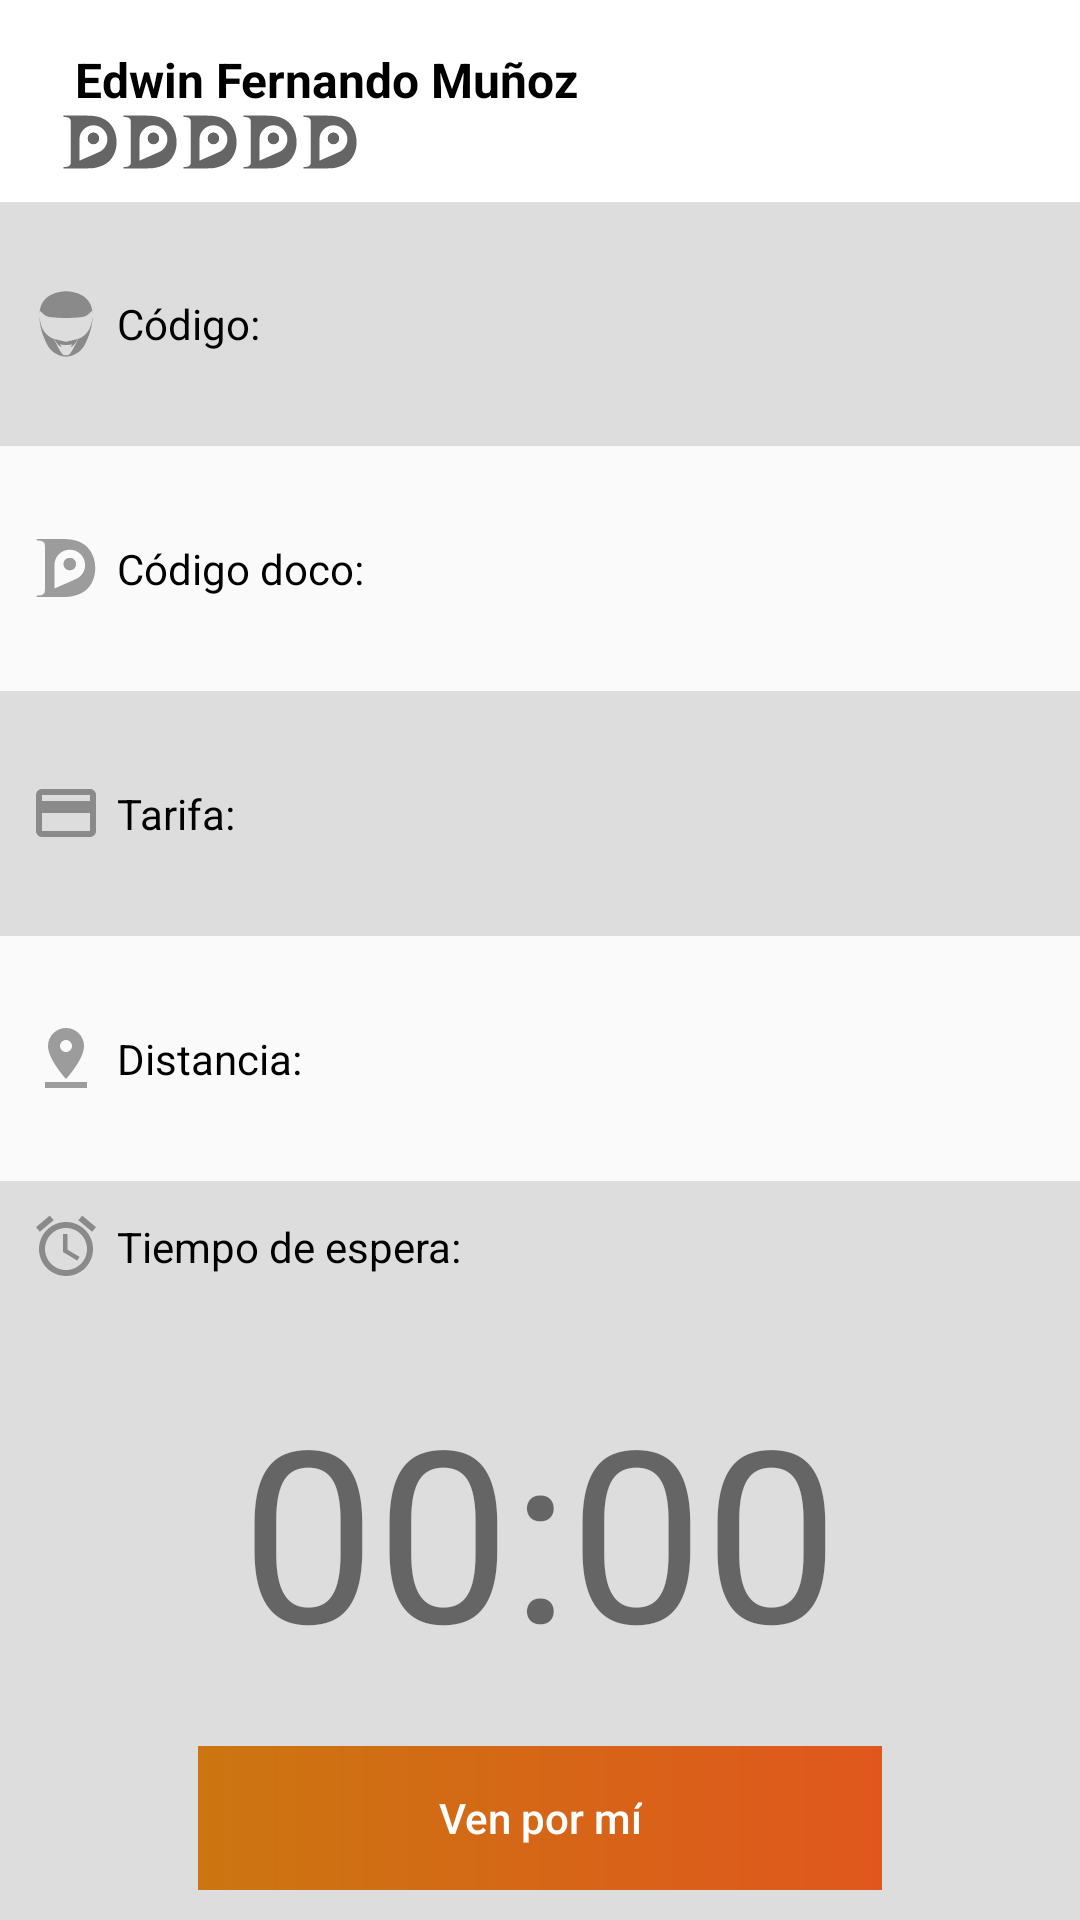

Icons on this 1080px×1920px Android screen, each with its box as (x1, y1, x2, y2):
score doco: (63, 115, 117, 169), (123, 115, 177, 169), (183, 115, 237, 169), (243, 115, 297, 169), (303, 115, 357, 169)
